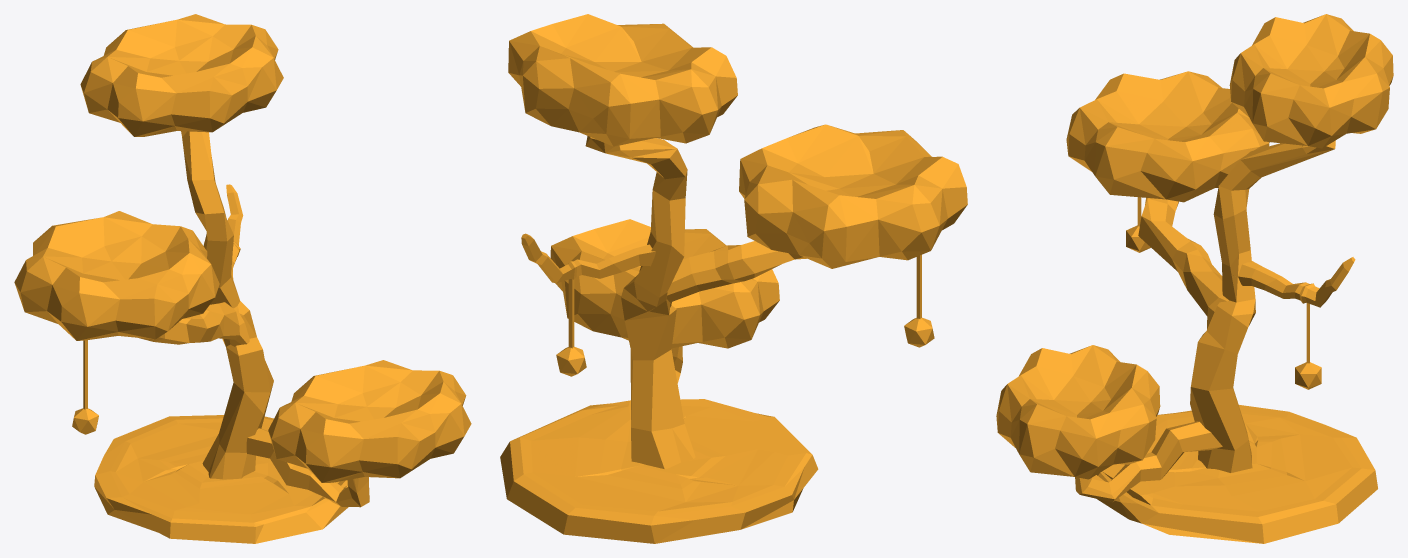
Rendered from SM_Cat_Tree_B.fbx.
3 renders of one model, left to right at view 1: azimuth 30°, elevation 25°; view 2: azimuth 150°, elevation 25°; view 3: azimuth 270°, elevation 25°, orthographic. The views are drawn at different scales.
Visible parts, largest first — view 1: SM_Cat_Tree_B_Base, SM_Cat_Tree_B_Ball_A; view 2: SM_Cat_Tree_B_Base, SM_Cat_Tree_B_Ball_B, SM_Cat_Tree_B_Ball_A; view 3: SM_Cat_Tree_B_Base, SM_Cat_Tree_B_Ball_B, SM_Cat_Tree_B_Ball_A.
Part boxes in pixels (x1,y1,x2,y2): SM_Cat_Tree_B_Base: [14, 14, 471, 543]; SM_Cat_Tree_B_Ball_A: [72, 340, 98, 434]; SM_Cat_Tree_B_Base: [500, 14, 967, 543]; SM_Cat_Tree_B_Ball_B: [556, 279, 586, 376]; SM_Cat_Tree_B_Ball_A: [904, 255, 934, 347]; SM_Cat_Tree_B_Base: [996, 14, 1393, 543]; SM_Cat_Tree_B_Ball_B: [1295, 303, 1321, 389]; SM_Cat_Tree_B_Ball_A: [1126, 197, 1150, 252].
Size of the model in its own units: 1.19 by 1.21 by 1.
